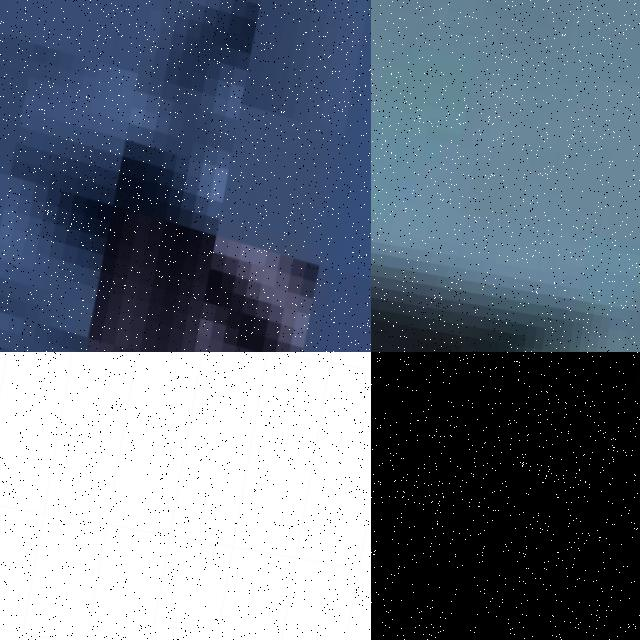drone: (0, 0, 371, 352)
